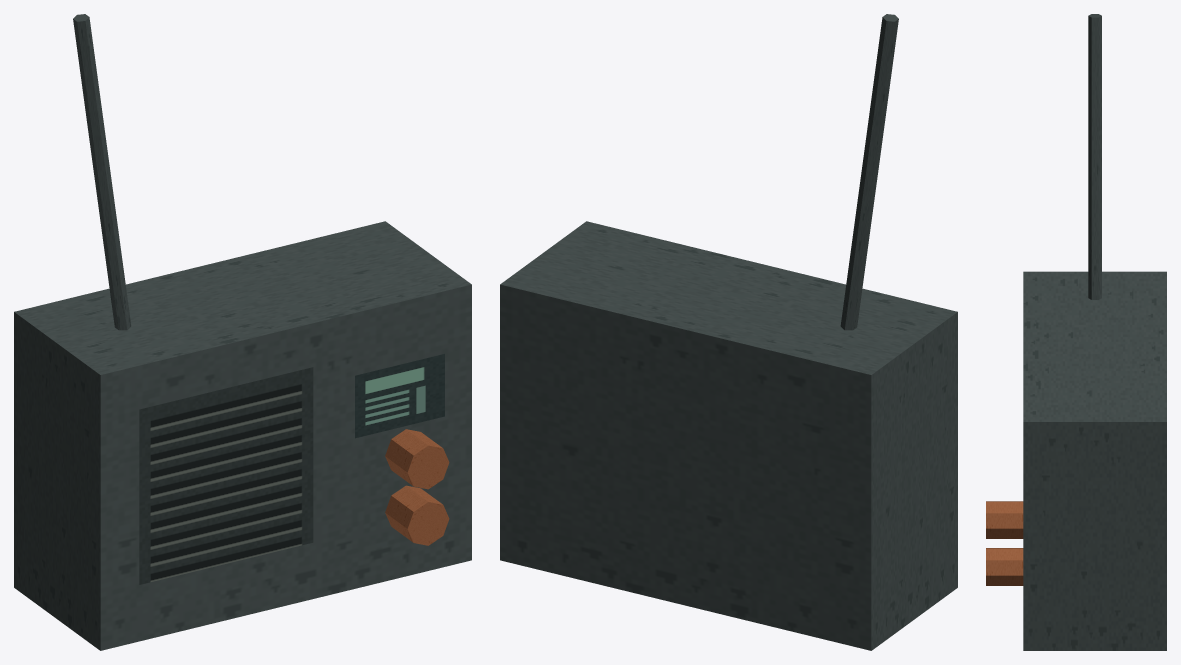
The model's file is Radio.fbx.
3 views of the same model, side by side, from view 1: azimuth 30°, elevation 25°; view 2: azimuth 150°, elevation 25°; view 3: azimuth 270°, elevation 25° (orthographic). The views are drawn at different scales.
Parts seen in each view (by area): view 1: Radio; view 2: Radio; view 3: Radio.
Part boxes in pixels (x1,y1,x2,y2): Radio: (14,14,471,650); Radio: (500,14,957,650); Radio: (986,14,1166,650).
Size of the model in its own units: 62 by 95.14 by 31.5.
